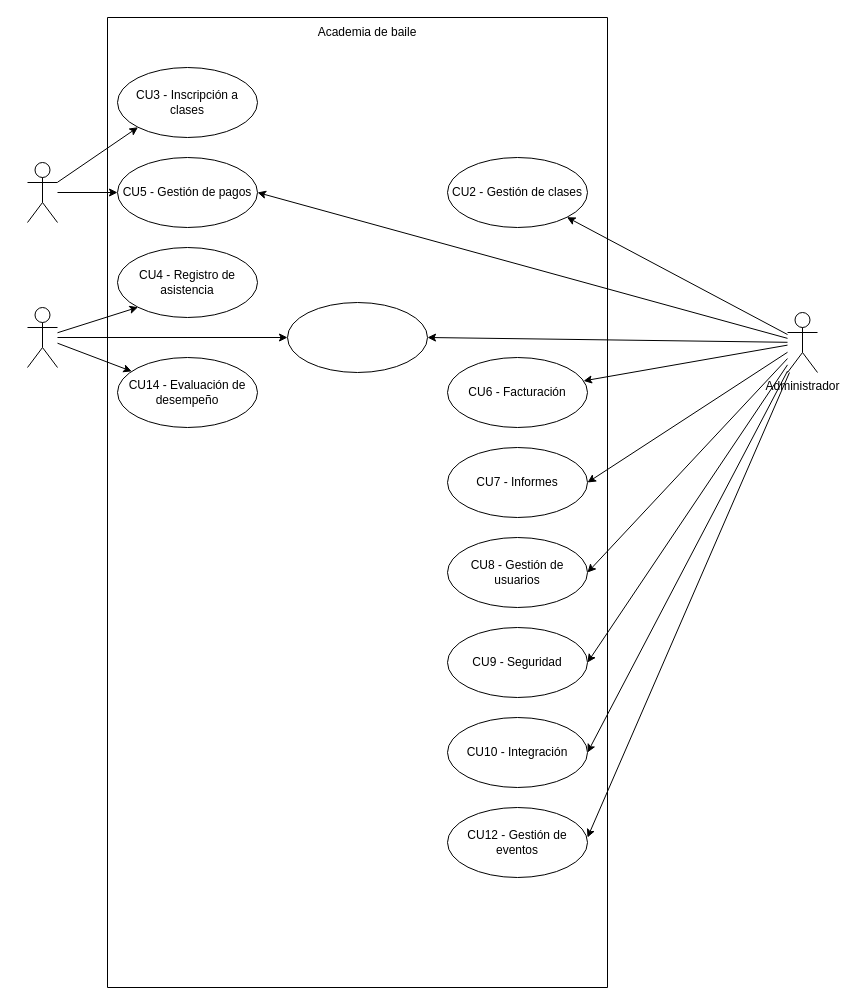
Image size: 857x1005. Some labels were removed from this diagram. Each missing label, with the box of its shape:
Alumno: (26, 162, 58, 222)
CU11 - Comunicación con Usuarios: (286, 302, 428, 372)
Instructor: (26, 306, 58, 368)
